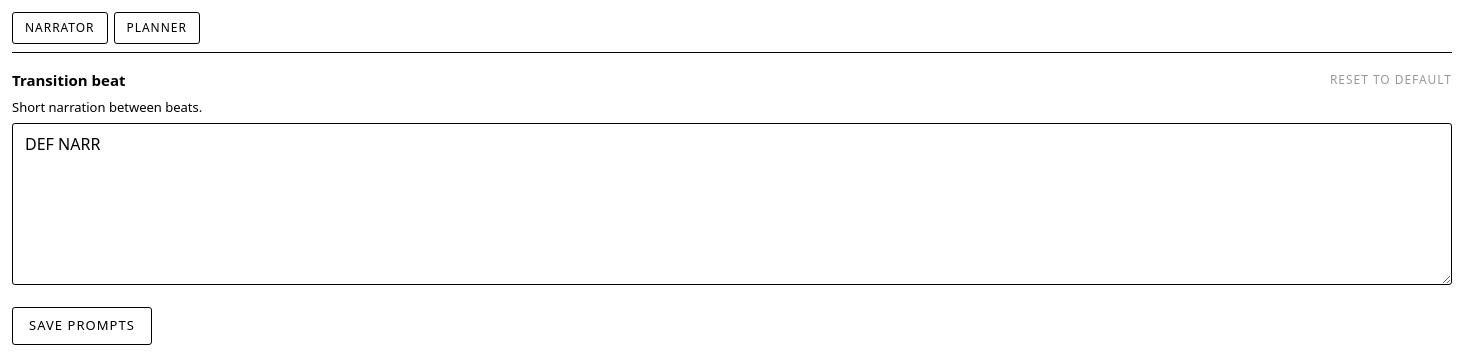
Test: PromptOverridesEditor › switches panels when a sub-tab is clicked
This screenshot has width=1464, height=362.
Click the tab "Planner".
click(157, 28)  # box top-left (114, 12), bottom-right (200, 44)
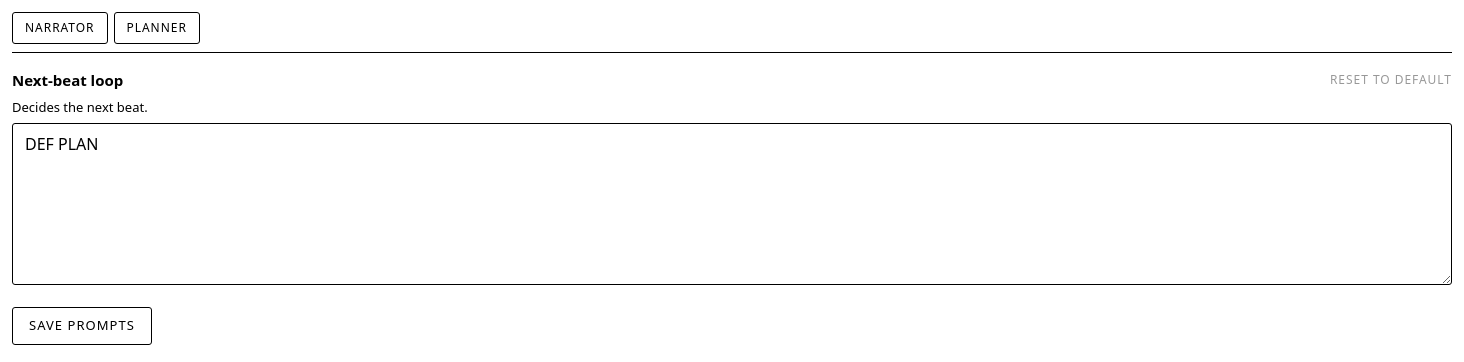
Result: the text box named "planner — next-beat loop prompt" is shown at top-left (12, 123), bottom-right (1452, 285)
